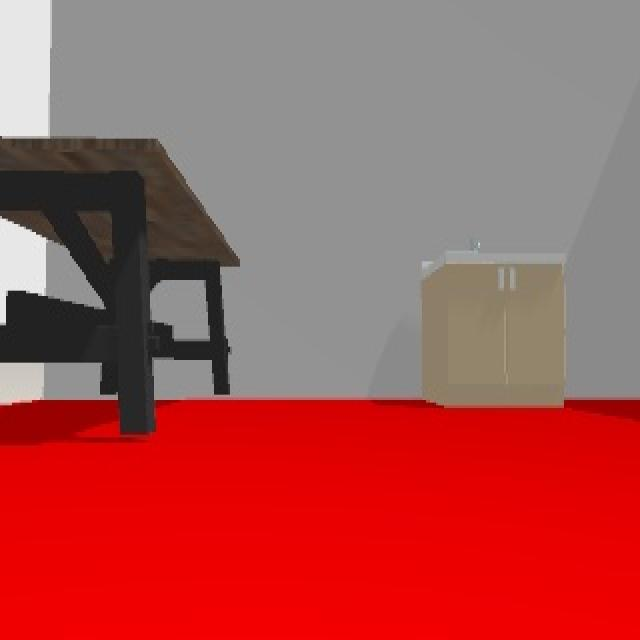dining: (2, 133, 242, 441)
